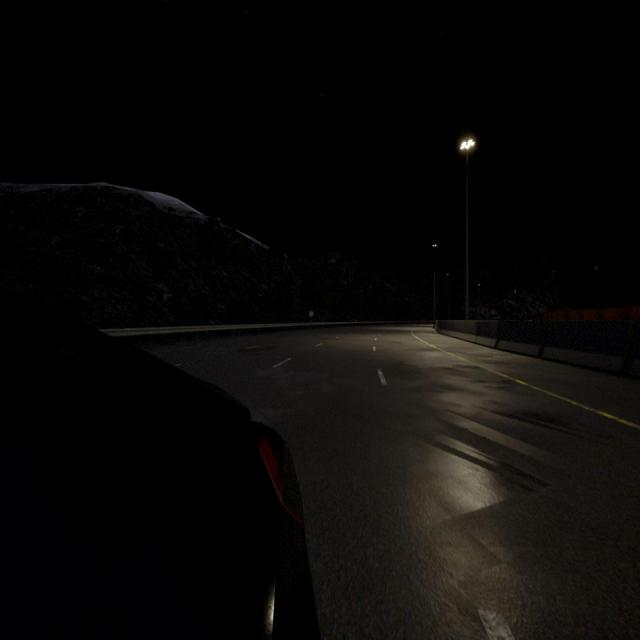Traffic_Signs: (309, 311, 314, 317)
Vehicle: (0, 343, 322, 640)
